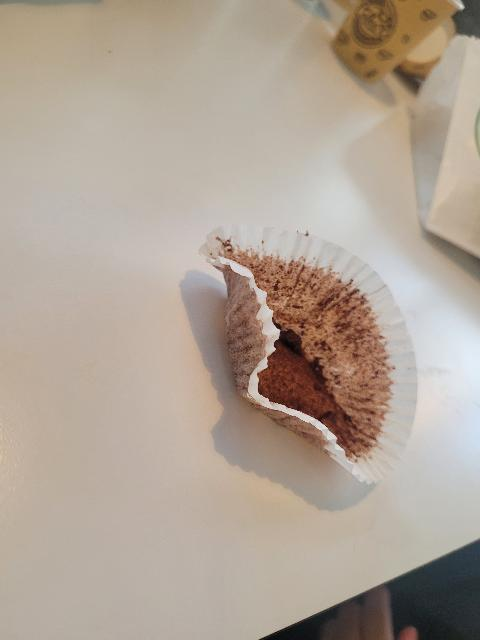Kagit: (207, 202, 436, 495)
